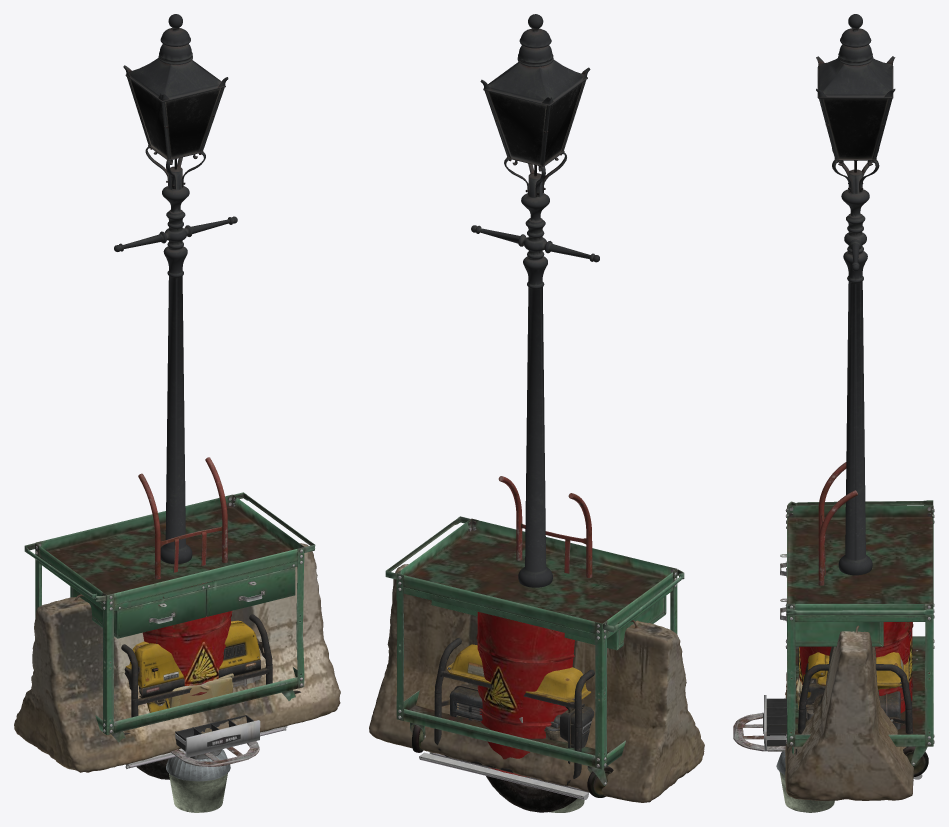
The model's file is modelli.glb.
The picture shows the model from 3 angles, left to right: view 1: azimuth 30°, elevation 25°; view 2: azimuth 150°, elevation 25°; view 3: azimuth 270°, elevation 25°; orthographic projection. The views are drawn at different scales.
Parts seen in each view (by area): view 1: tool_cart, concrete_road_barrier, street_lamp_01, portable_generator, Barrel_01, hand_truck, CashRegister_011_drawer, security_light_glass, security_light, cardboard_box_01; view 2: tool_cart, concrete_road_barrier, street_lamp_01, Barrel_01, portable_generator, old_tyre, hand_truck, mounted_fluorescent_lights_g; view 3: tool_cart, street_lamp_01, concrete_road_barrier, portable_generator, Barrel_01, hand_truck, CashRegister_011_drawer, security_light_glass.
Part boxes in pixels (<box>): tool_cart: <box>24,492,315,742</box>; concrete_road_barrier: <box>14,543,340,772</box>; street_lamp_01: <box>114,14,237,563</box>; portable_generator: <box>121,614,272,717</box>; Barrel_01: <box>142,580,232,695</box>; hand_truck: <box>138,457,259,766</box>; CashRegister_011_drawer: <box>175,715,260,757</box>; security_light_glass: <box>169,773,227,812</box>; security_light: <box>166,749,230,781</box>; cardboard_box_01: <box>168,673,233,707</box>; tool_cart: <box>385,516,684,797</box>; concrete_road_barrier: <box>369,564,704,802</box>; street_lamp_01: <box>471,14,599,587</box>; Barrel_01: <box>476,612,574,777</box>; portable_generator: <box>434,638,594,786</box>; old_tyre: <box>486,776,577,812</box>; hand_truck: <box>498,476,592,577</box>; mounted_fluorescent_lights_g: <box>419,752,588,799</box>; tool_cart: <box>780,500,934,776</box>; street_lamp_01: <box>816,14,895,575</box>; concrete_road_barrier: <box>785,625,913,800</box>; portable_generator: <box>798,648,912,746</box>; Barrel_01: <box>799,622,913,712</box>; hand_truck: <box>733,462,857,751</box>; CashRegister_011_drawer: <box>763,695,786,750</box>; security_light_glass: <box>779,772,834,812</box>.
Size of the model in its own units: 1.55 by 4.23 by 0.9805.
Materials: 21 (21 with a texture image).
